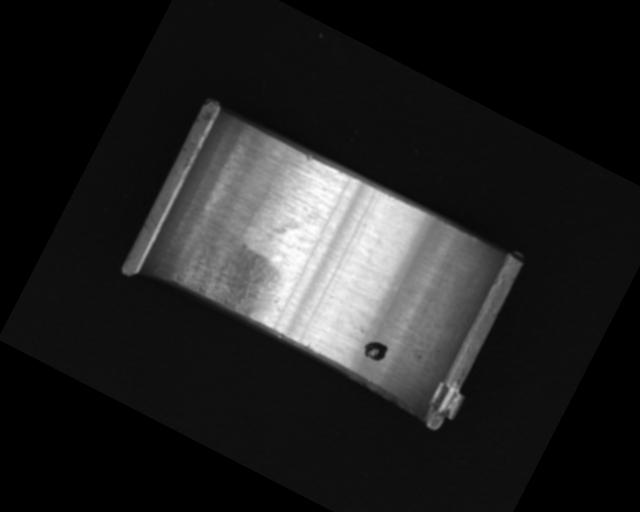blot: (359, 336, 390, 365)
bruise: (302, 151, 314, 164)
scratch: (167, 218, 297, 329)
